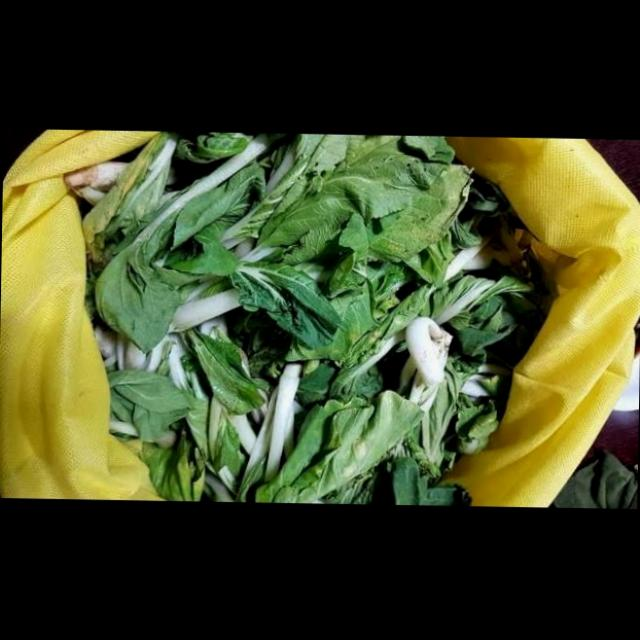vo_rau_cu: (96, 136, 267, 350), (254, 393, 425, 504), (231, 264, 346, 345)
